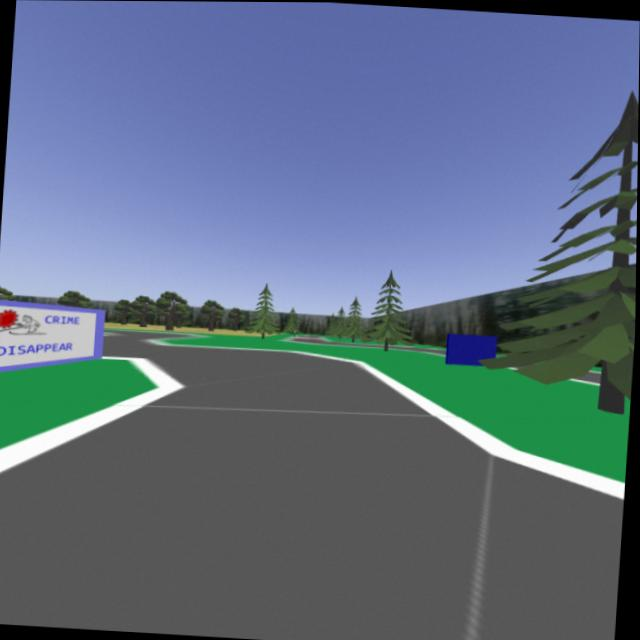clueboard: (0, 290, 111, 388)
